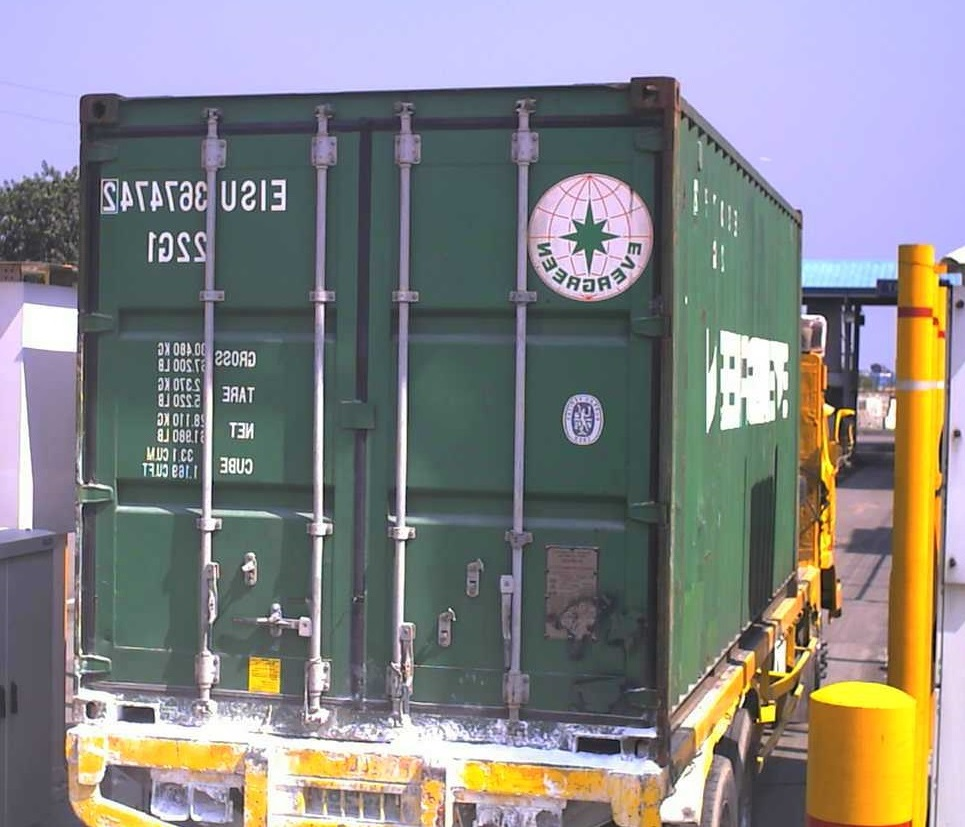container_door: (66, 72, 675, 721)
